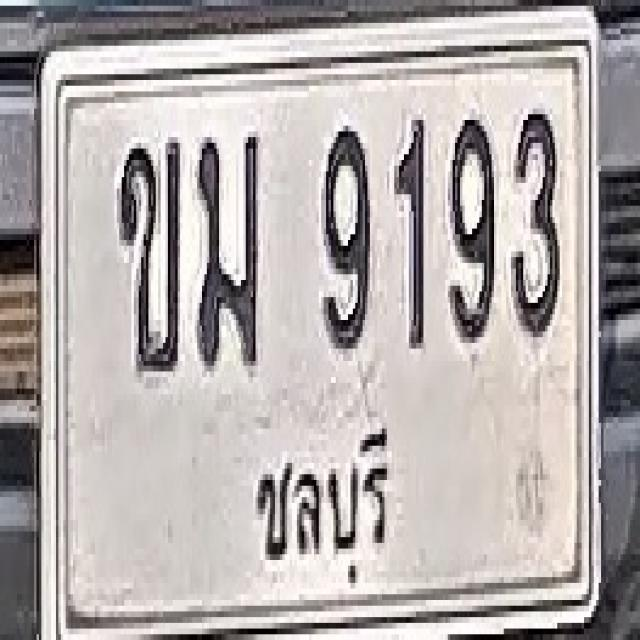1: (393, 114, 425, 349)
3: (511, 109, 560, 337)
9: (321, 120, 370, 349), (448, 111, 494, 340)
A02: (118, 134, 181, 374)
A33: (196, 128, 259, 368)
CBI: (245, 409, 398, 593)
